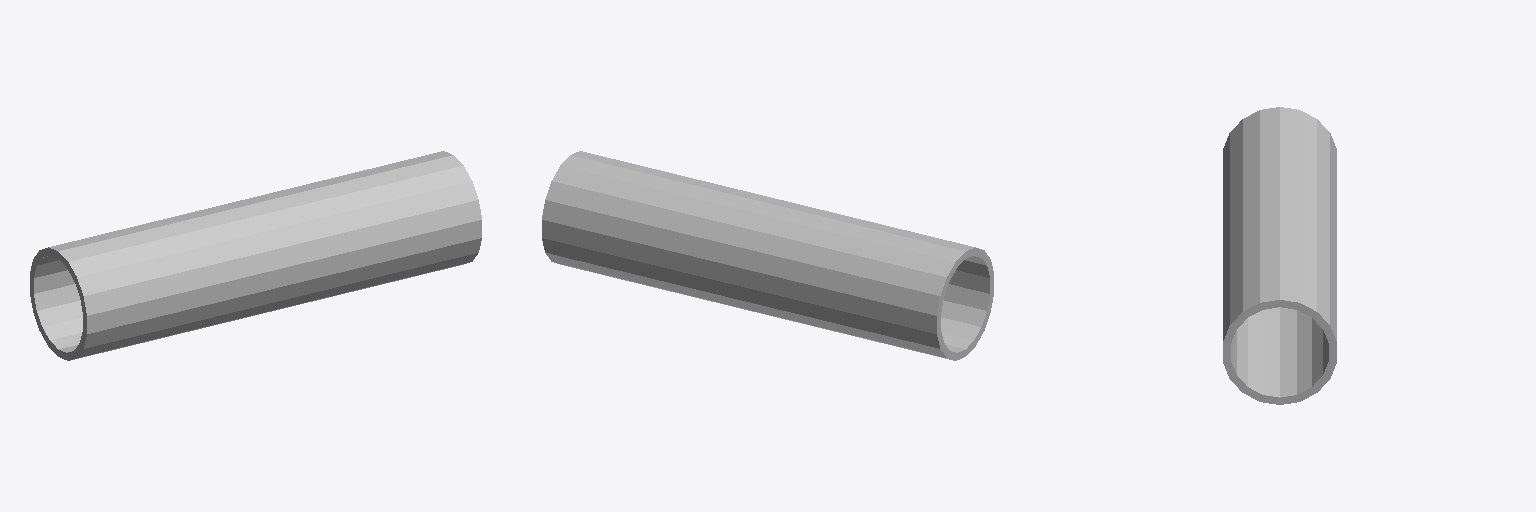
The model's file is sideline.obj.
The picture shows the model from 3 angles: view 1: azimuth 30°, elevation 25°; view 2: azimuth 150°, elevation 25°; view 3: azimuth 270°, elevation 25°; orthographic projection.
Parts seen in each view (by area): view 1: Tube001; view 2: Tube001; view 3: Tube001.
Boxes of the visible parts, x1=… form: Tube001: x1=30, y1=151, x2=481, y2=360; Tube001: x1=542, y1=151, x2=993, y2=360; Tube001: x1=1223, y1=107, x2=1336, y2=404.
Size of the model in its own units: 25.53 by 6.51 by 6.41.